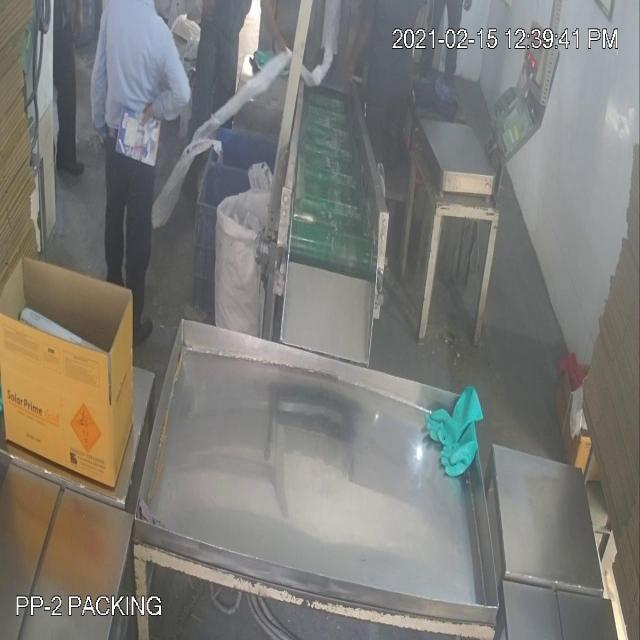gloves: (418, 368, 494, 487)
no-gloves: (144, 25, 194, 138), (338, 15, 384, 95)
